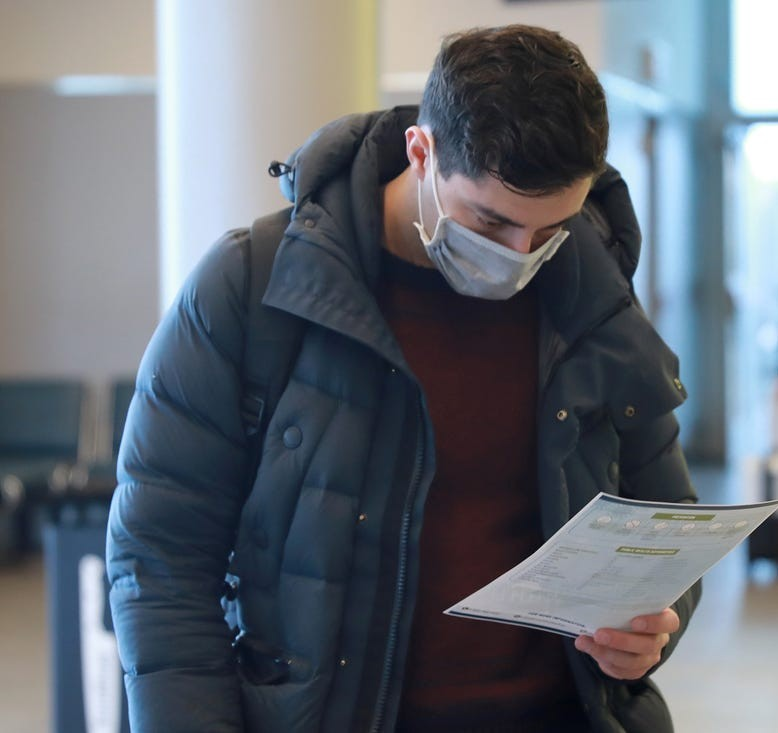with_mask: (410, 88, 603, 319)
